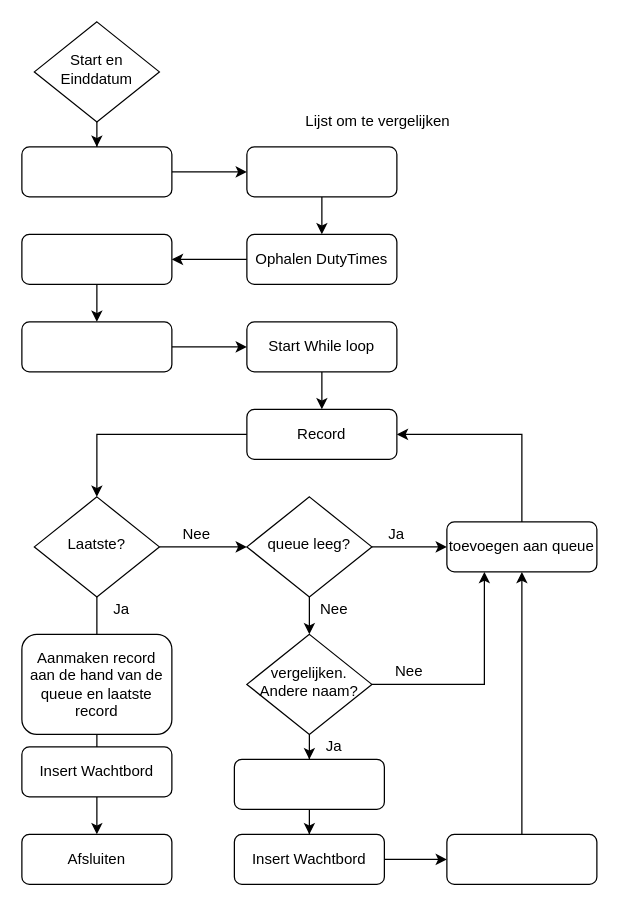
The diagram is 619 pixels wide and 906 high, and some of its shapes have lost their labels. Each missing label, with the centre of its shape:
Aanmaken record aan de hand van de queue: pixel 308 783
Leegmaken queue: pixel 521 858
Lege queue voorereiden: pixel 96 346
Ophalen Informalender: pixel 96 171
Ophalen Personen Wachtbord: pixel 321 171
Verwijderen In Wachtbord: pixel 96 258
